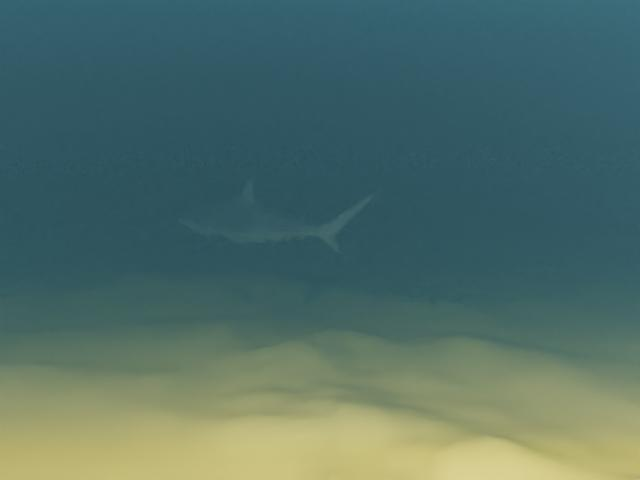Carribean Shark.001: (177, 174, 382, 260)
